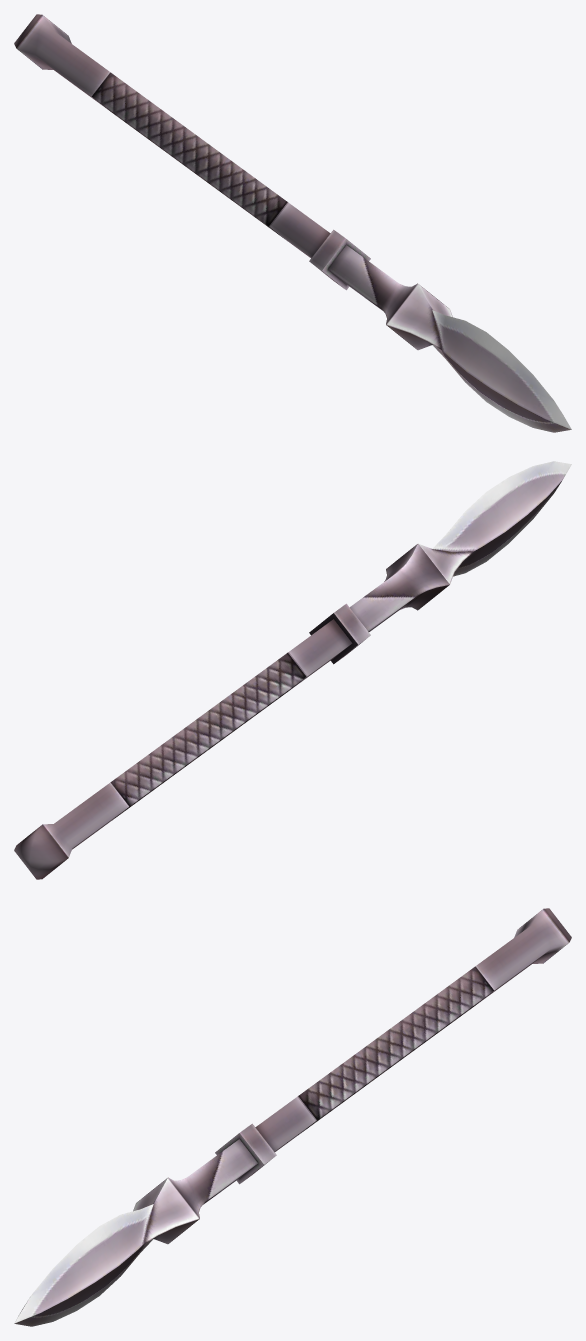
The picture shows the model from 3 angles, top to bottom: view 1: azimuth 30°, elevation 25°; view 2: azimuth 150°, elevation 25°; view 3: azimuth 330°, elevation 25°; orthographic projection.
Visible parts, largest first — view 1: mLance; view 2: mLance; view 3: mLance.
Boxes of the visible parts, bbox=[...] form: mLance: bbox=[14, 14, 571, 432]; mLance: bbox=[14, 461, 571, 879]; mLance: bbox=[14, 908, 571, 1326].
Size of the model in its own units: 0.0788 by 0.0823 by 1.15.
